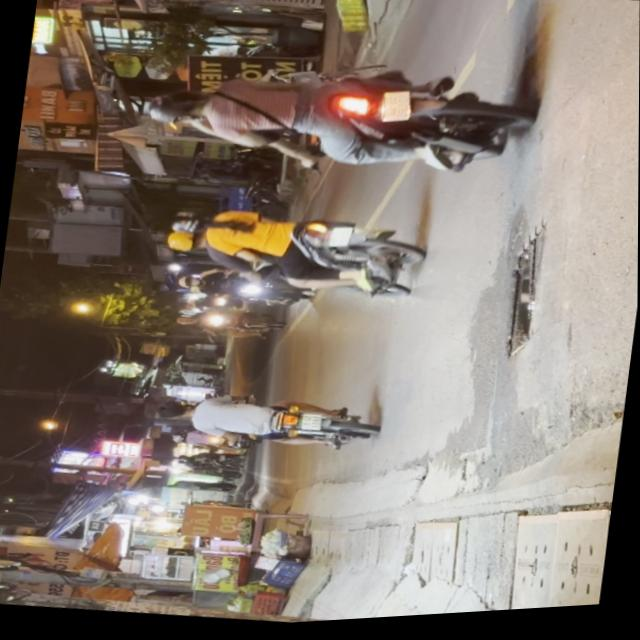helmet: (151, 84, 212, 125), (144, 97, 189, 128), (163, 228, 204, 254), (169, 213, 208, 237)
licenseplate: (135, 31, 534, 203), (157, 192, 428, 315), (146, 377, 380, 467)
motorcyclist: (152, 396, 194, 424)
nohelmet: (378, 92, 410, 126), (328, 228, 354, 252), (300, 414, 324, 434)
